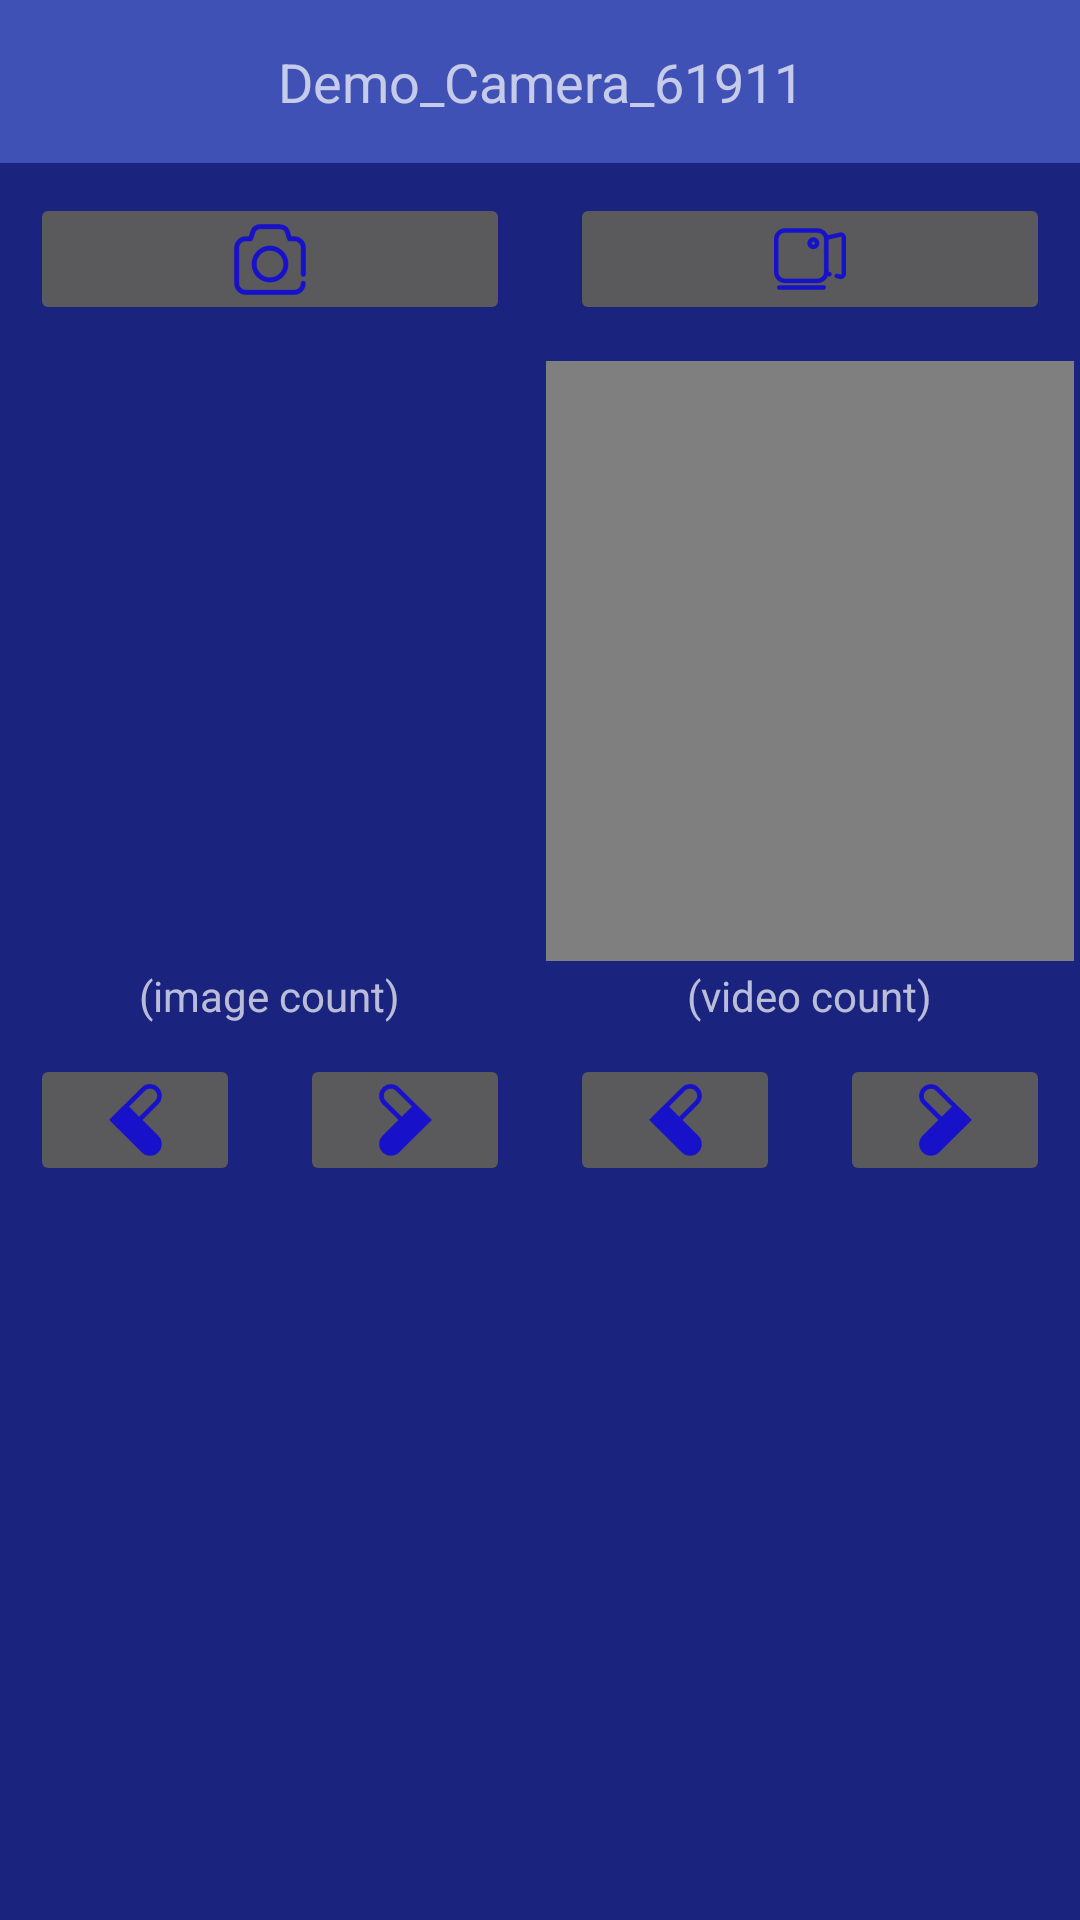

Screen size 1080w x 1920h. Icon name, then its center in pixels as point (x, y):
next: point (405, 1120), point (945, 1120)
prev: point (135, 1120), point (675, 1120)
